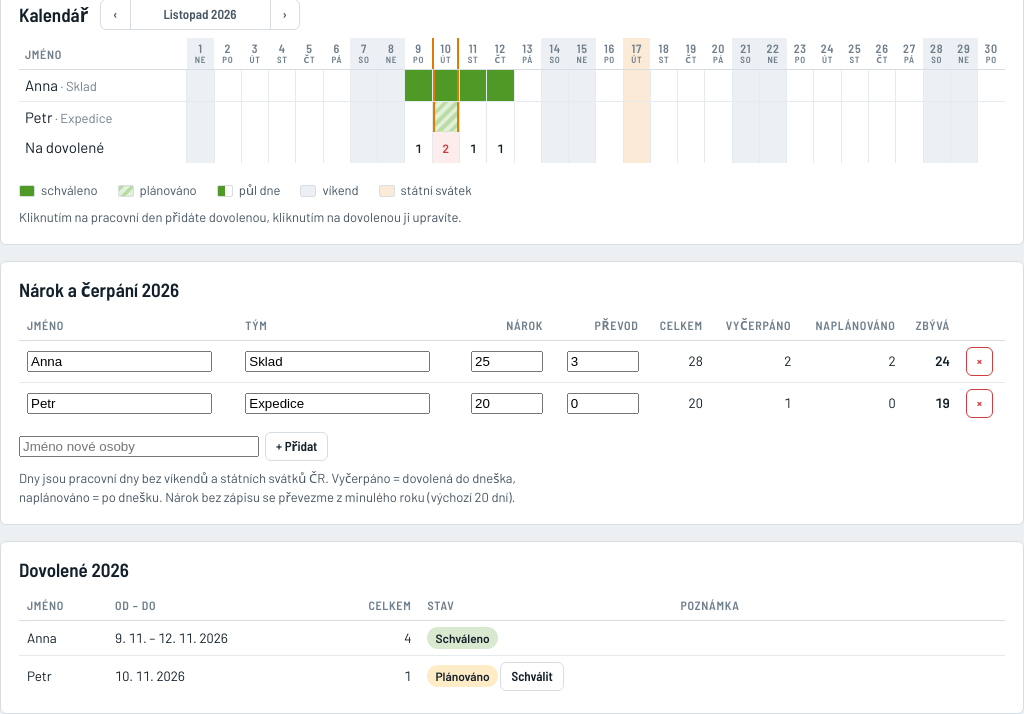
Test case: Dovolené › přehled, kalendář se souběhem nad limitem, nárok a schválení
(page scrolled)
Expected: the cell "2" below "13" is shown, [443,141,449,155]
Click the button "Schválit". click: (532, 677)
box: [500,662,564,691]
(page scrolled)
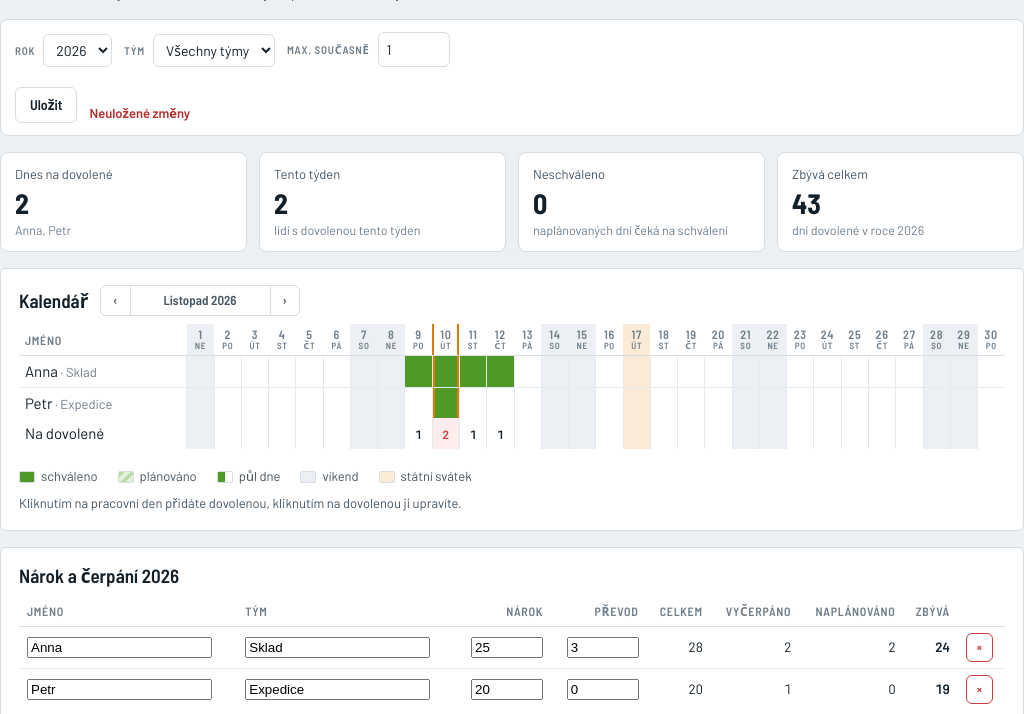
Expected: the button "Schválit" is gone
Expected: the text "Neuložené změny" is shown, [90,104,190,123]
